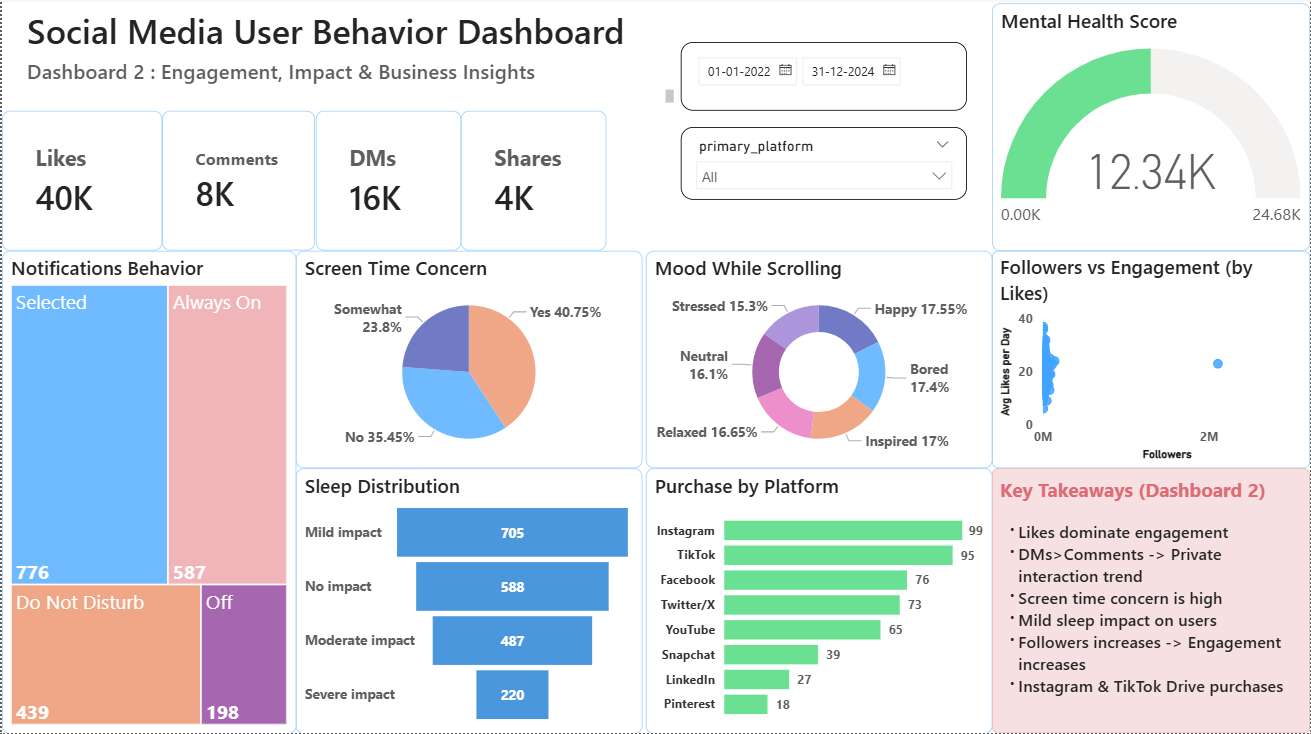

The page's visual inventory and layout, read from the dashboard file:
{"tool":"powerbi","page":{"name":"Page 2","canvas":[1280,720],"ordinal":1},"visuals":[{"type":"cardVisual","title":"Likes","fields":{"Data":["social_media_user_behavior.Likes"]},"box":[0,111.6,157.1,136.5],"z":0},{"type":"cardVisual","title":"Likes","fields":{"Data":["social_media_user_behavior.DMs"]},"box":[306.8,111.6,142.4,136.5],"z":1000},{"type":"cardVisual","title":"Likes","fields":{"Data":["social_media_user_behavior.Shares"]},"box":[449.2,111.6,142.4,136.5],"z":2000},{"type":"cardVisual","title":"Likes","fields":{"Data":["social_media_user_behavior.Comments"]},"box":[157.1,111.6,149.7,136.5],"z":3000},{"type":"scatterChart","title":"Followers vs Engagement (by Likes)","fields":{"Y":["Avg(social_media_user_behavior.likes_given_per_day)"],"X":["social_media_user_behavior.followers_count"]},"box":[968.8,248.1,311.2,212.8],"z":4000},{"type":"gauge","title":"Mental Health Score","fields":{"Y":["Sum(social_media_user_behavior.self_reported_mental_health_score)"]},"box":[968.8,5.9,311.2,242.2],"z":5000},{"type":"pieChart","title":"Screen Time Concern ","fields":{"Category":["social_media_user_behavior.screen_time_concern"],"Y":["CountNonNull(social_media_user_behavior.user_id)"]},"box":[287.7,248.1,339.1,212.8],"z":6000},{"type":"funnel","title":"Sleep Distribution","fields":{"Category":["social_media_user_behavior.sleep_disruption"],"Y":["CountNonNull(social_media_user_behavior.user_id)"]},"box":[287.7,460.9,339.1,259.8],"z":7000},{"type":"donutChart","title":"Mood While Scrolling","fields":{"Category":["social_media_user_behavior.mood_while_scrolling"],"Y":["CountNonNull(social_media_user_behavior.user_id)"]},"box":[629.7,248.1,339.1,212.8],"z":8000},{"type":"treemap","title":"Notifications Behavior","fields":{"Group":["social_media_user_behavior.notification_frequency"],"Values":["CountNonNull(social_media_user_behavior.user_id)"]},"box":[0,248.1,287.7,472.7],"z":9000},{"type":"barChart","title":"Purchase by Platform","fields":{"Category":["social_media_user_behavior.primary_platform"],"Y":["CountNonNull(social_media_user_behavior.purchased_via_social_media)"]},"box":[629.7,460.9,339.1,259.8],"z":10000},{"type":"textbox","title":"Social Media User Behavior Dashboard","box":[19.1,10.3,642.9,98.3],"z":11000},{"type":"textbox","box":[969,461,311,259],"z":14000},{"type":"slicer","fields":{"Values":["social_media_user_behavior.account_join_date"]},"box":[664,44,280,67.3],"z":14001},{"type":"slicer","fields":{"Values":["social_media_user_behavior.primary_platform"]},"box":[664,127.2,280,70.9],"z":14002}]}

Visuals, with their boxes in screenshot pixels (x1, y1, x2, y2), scaled from the page's 1280x720 canvas onto the 1311x734 screenshot:
"Likes" cardVisual: (0,114,161,253)
"Likes" cardVisual: (314,114,460,253)
"Likes" cardVisual: (460,114,606,253)
"Likes" cardVisual: (161,114,314,253)
"Followers vs Engagement (by Likes)" scatterChart: (992,253,1310,470)
"Mental Health Score" gauge: (992,6,1310,253)
"Screen Time Concern " pieChart: (295,253,642,470)
"Sleep Distribution" funnel: (295,470,642,733)
"Mood While Scrolling" donutChart: (645,253,992,470)
"Notifications Behavior" treemap: (0,253,295,733)
"Purchase by Platform" barChart: (645,470,992,733)
"Social Media User Behavior Dashboard" textbox: (20,11,678,111)
textbox: (992,470,1310,733)
slicer - social_media_user_behavior.account_join_date: (680,45,967,113)
slicer - social_media_user_behavior.primary_platform: (680,130,967,202)
